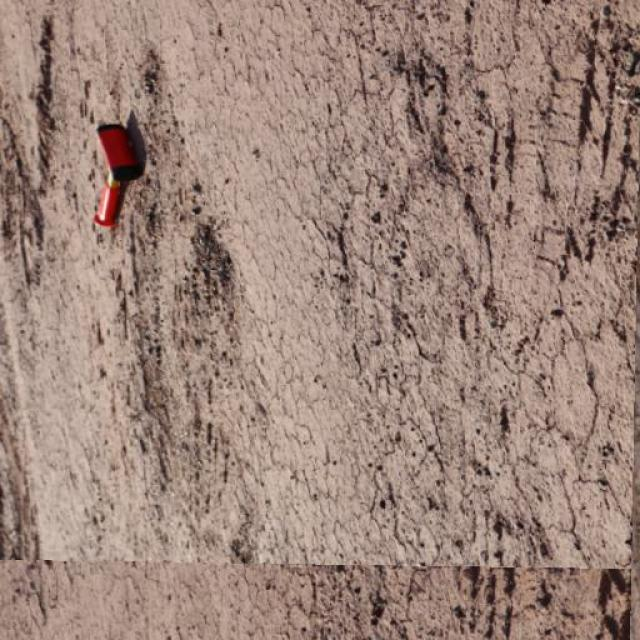mallet: (92, 108, 146, 228)
